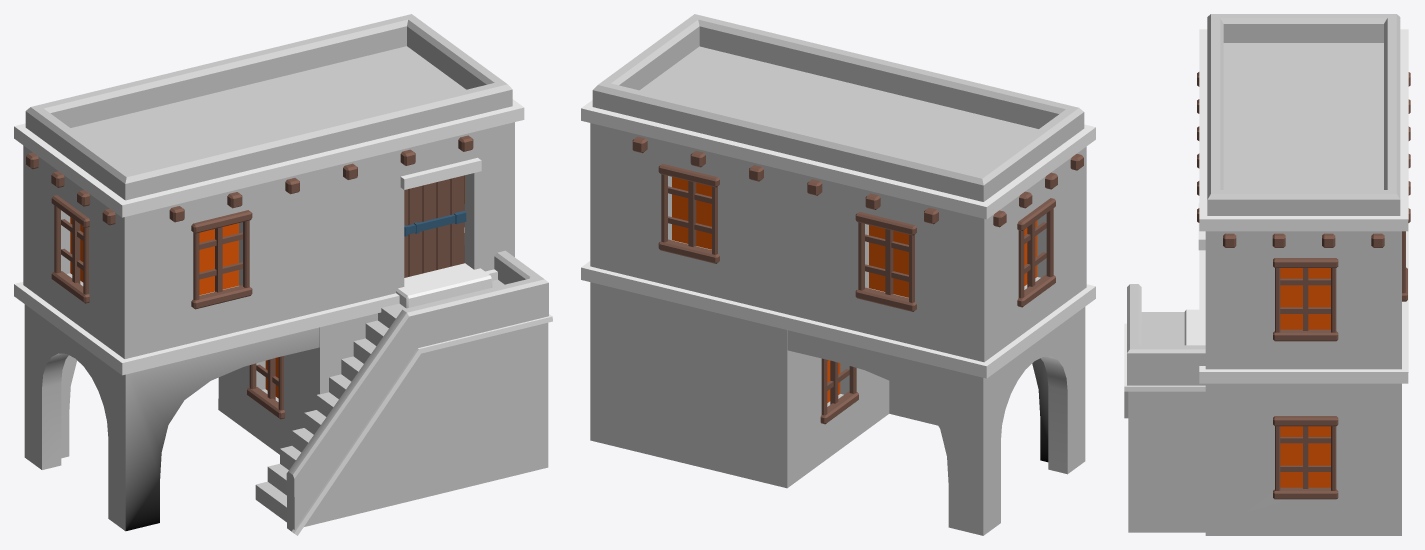
Rendered from civilian_house_34_b.FBX.
3 renders of one model, left to right at view 1: azimuth 30°, elevation 25°; view 2: azimuth 150°, elevation 25°; view 3: azimuth 270°, elevation 25°, orthographic. The views are drawn at different scales.
Visible parts, largest first — view 1: civilian_house_34_b_LOD0; view 2: civilian_house_34_b_LOD0; view 3: civilian_house_34_b_LOD0.
Part boxes in pixels (box(x1,y1,x2,y2)): civilian_house_34_b_LOD0: box(14, 14, 552, 535); civilian_house_34_b_LOD0: box(581, 14, 1095, 535); civilian_house_34_b_LOD0: box(1124, 14, 1410, 535).
Size of what is drawn, in the model's own units: 1038 by 873 by 657.
